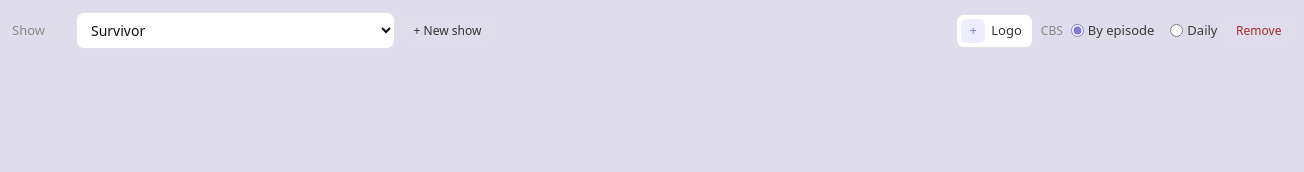
it: AdminShows › only saves a new ranking mode once it's confirmed
Expected: the radio button labelled "By episode" is checked, [1071, 24, 1084, 37]
Expected: the text "Confirm" is not shown
Step 1. Click the radio button labelled "Daily" → (1177, 31), box [1170, 24, 1183, 37]
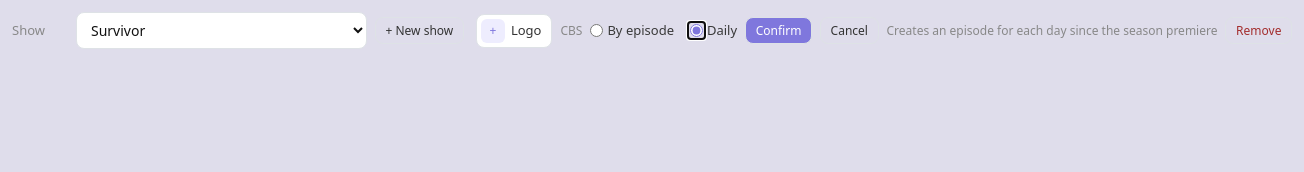
Now the text "Creates an episode for each day since the season premiere" is shown, box [886, 23, 1218, 39]
Step 2. Click the button "Confirm" → (779, 31), box [745, 17, 812, 44]
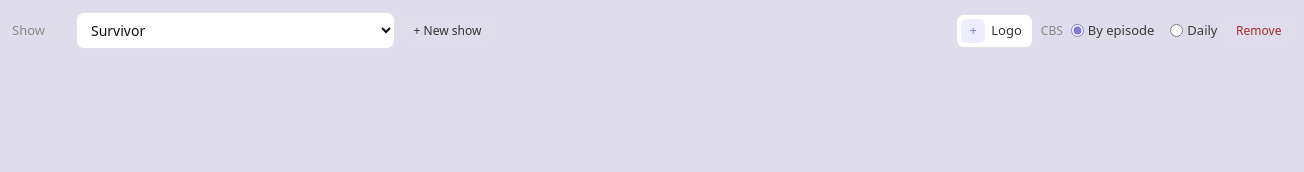
Now the button "Confirm" is gone
